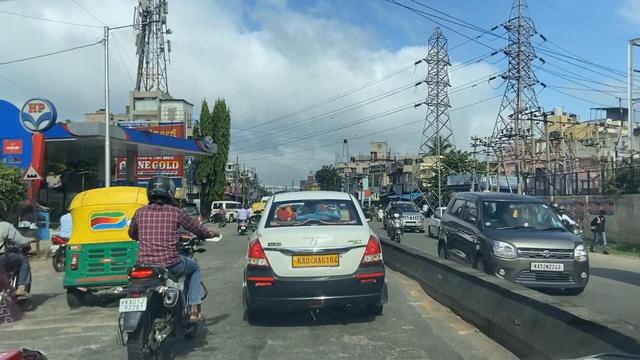LMV: (120, 177, 197, 358)
RoadDamages: (237, 193, 391, 320), (254, 331, 425, 360), (34, 313, 108, 348)
